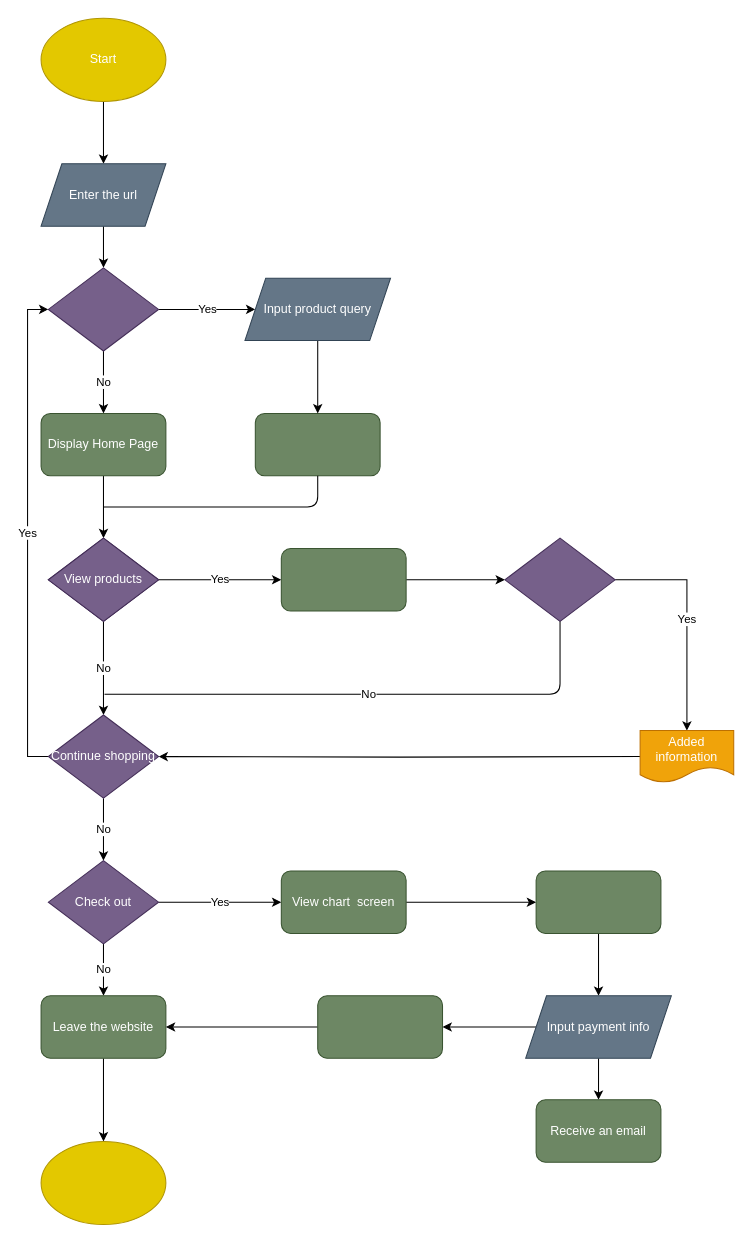
Some shapes in this 752 by 1243 pixel diagram are drawn without their labels. The centre of each missing label's shape, as x and y in pixels:
Add to cart: the point at 559,579
Display Product Page: the point at 343,579
Display Search Page: the point at 317,444
End: the point at 103,1182
Search for products: the point at 103,309
View Confirmation screen: the point at 380,1026
View Payment screen: the point at 598,901
